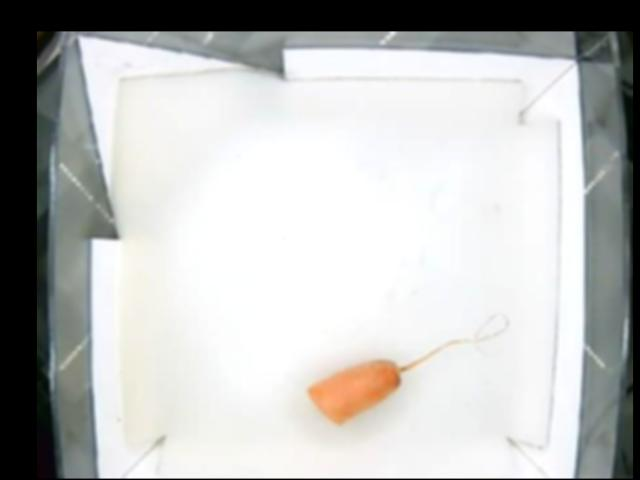Carrot: (307, 356, 409, 422)
